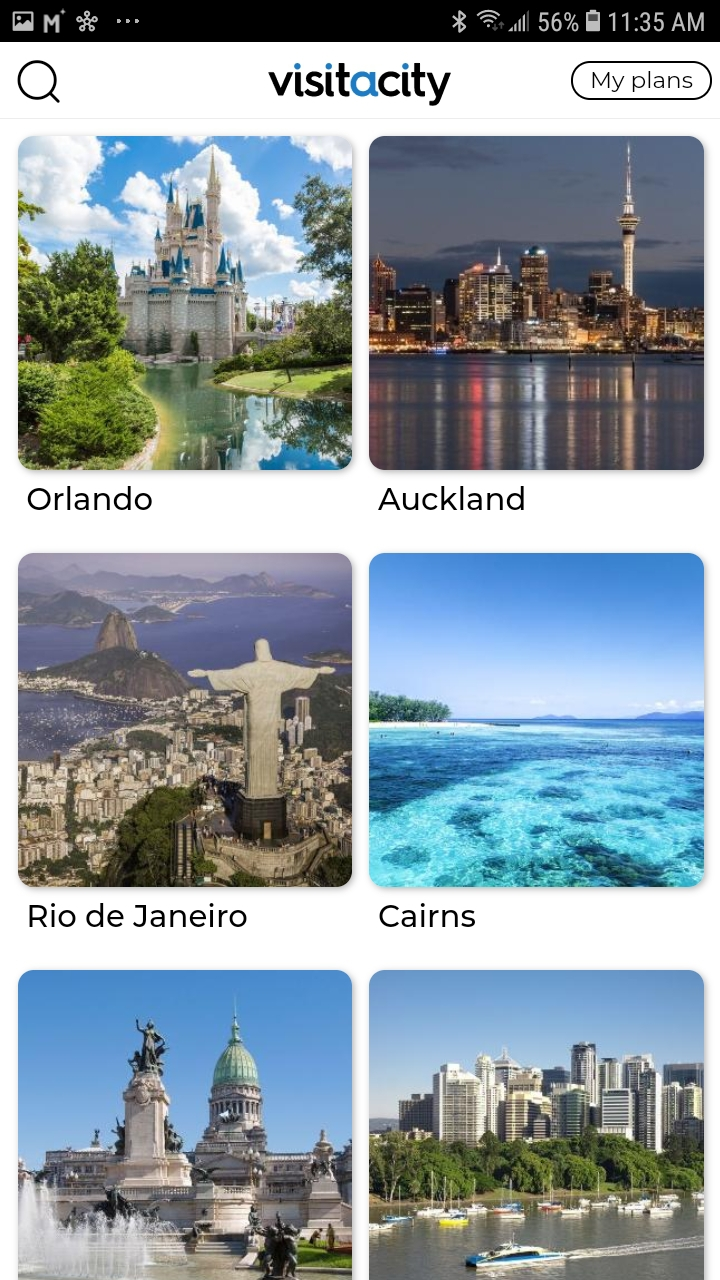Icon: (17, 61, 61, 105)
Image: (369, 136, 705, 471), (370, 553, 705, 888), (18, 136, 353, 471), (19, 553, 353, 888), (369, 970, 704, 1280), (18, 970, 353, 1280), (268, 63, 452, 107)
Text: (29, 902, 248, 928), (378, 486, 525, 511), (28, 486, 153, 512), (379, 902, 476, 928)
TextButton: (571, 61, 713, 102)
UpperTaskBar: (1, 1, 720, 43)
